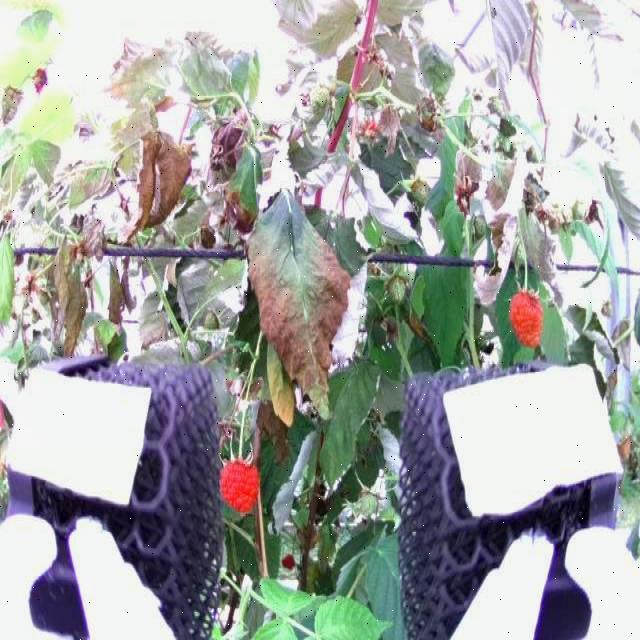Riped berries: (222, 450, 264, 512), (507, 285, 548, 341)
